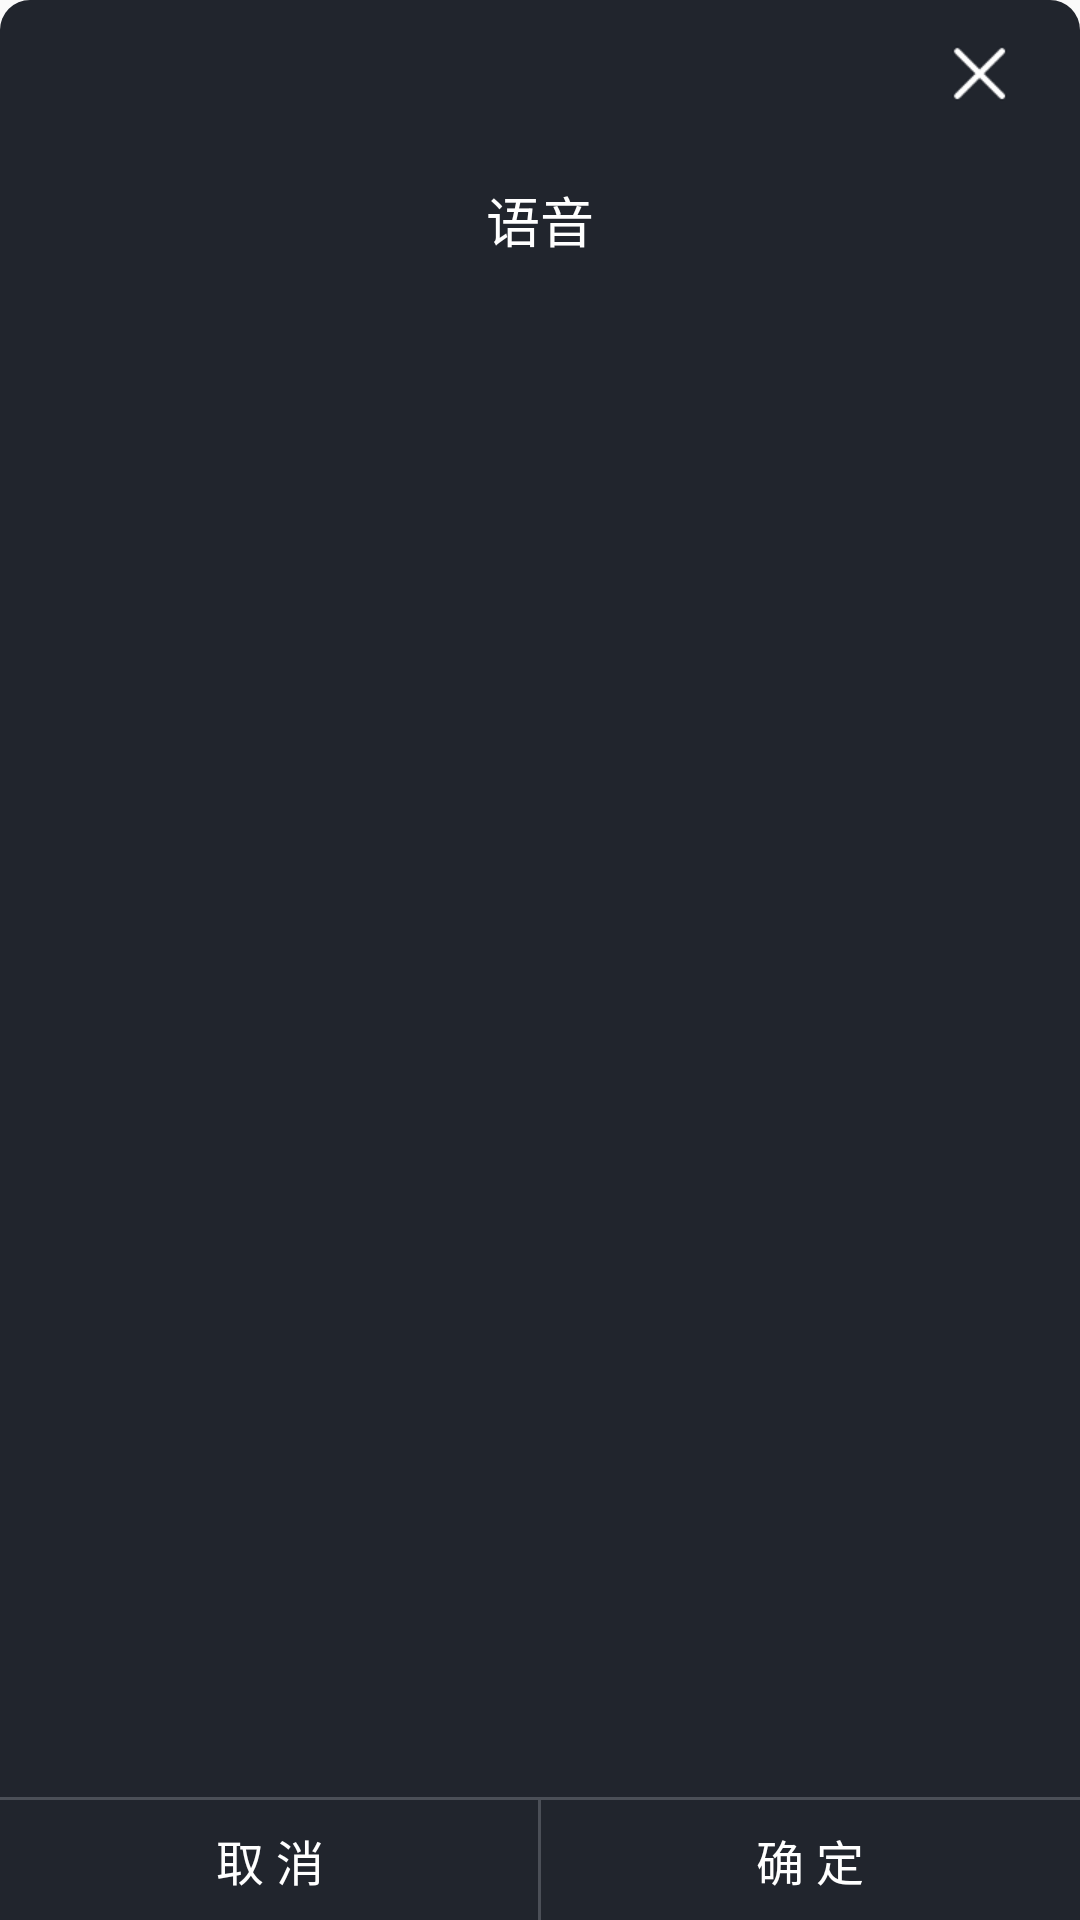

Named icons in this screenshot (1080w x 1920h) and their centers, point (x, y):
关闭: point (980, 74)
